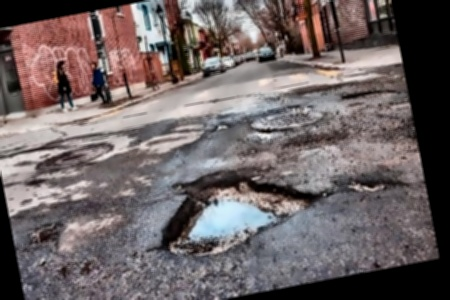pothole: (147, 153, 321, 266), (339, 82, 402, 108), (23, 218, 67, 252), (346, 173, 389, 197), (209, 120, 233, 134)
